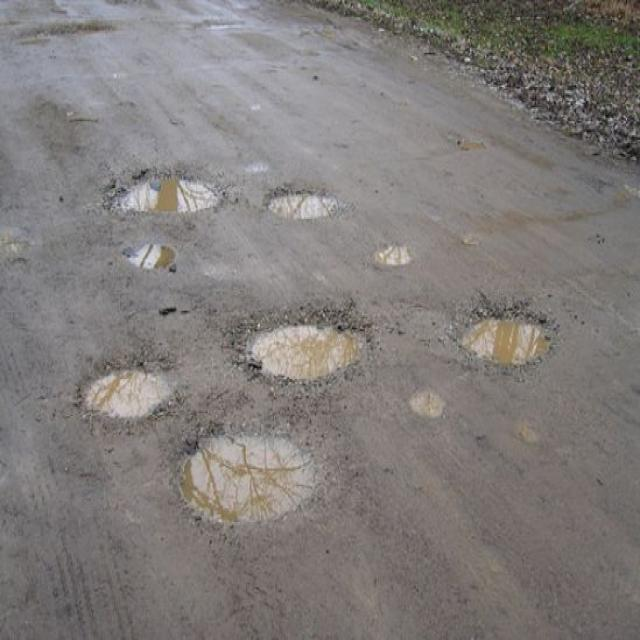pothole: (171, 419, 330, 528), (228, 304, 374, 380), (68, 354, 180, 422), (451, 302, 555, 368), (107, 166, 223, 219), (260, 177, 345, 219), (119, 238, 180, 278), (365, 238, 414, 272)
